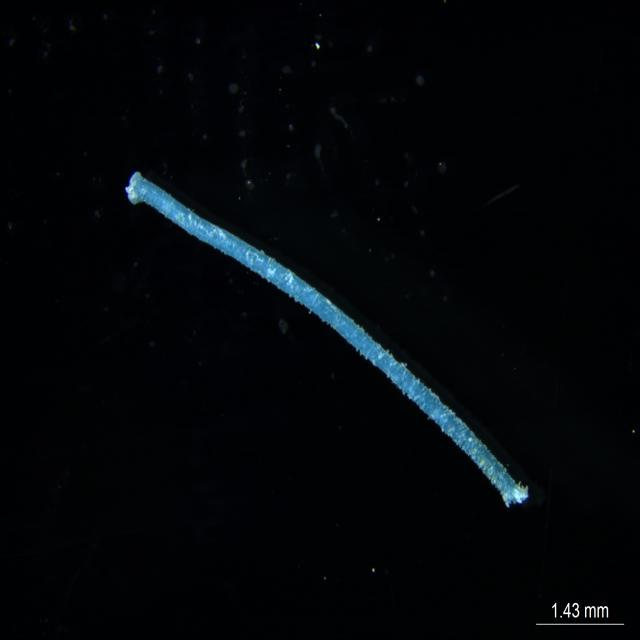fibers: (118, 150, 543, 522)
